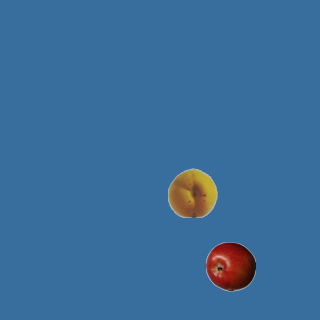Apple Braeburn: (205, 241, 255, 291)
Peach 2: (167, 167, 217, 217)
